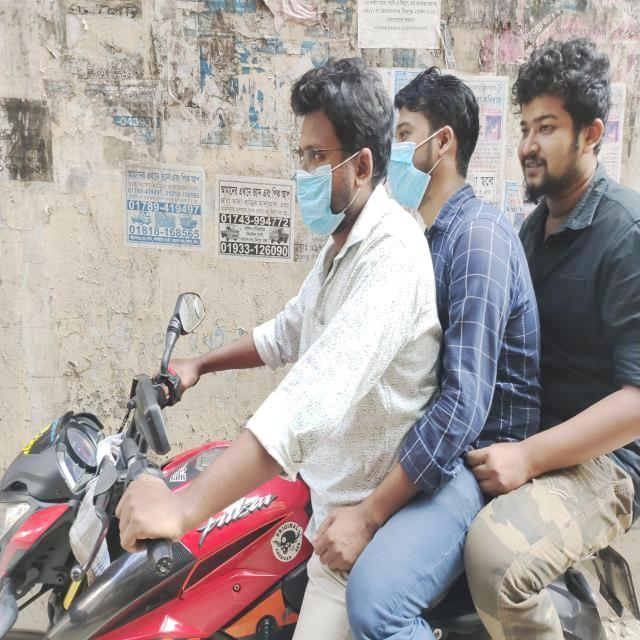motorcycle: (2, 271, 640, 640)
person: (225, 54, 448, 582), (357, 56, 552, 587), (496, 24, 640, 640)
rider_region: (1, 41, 640, 640)
